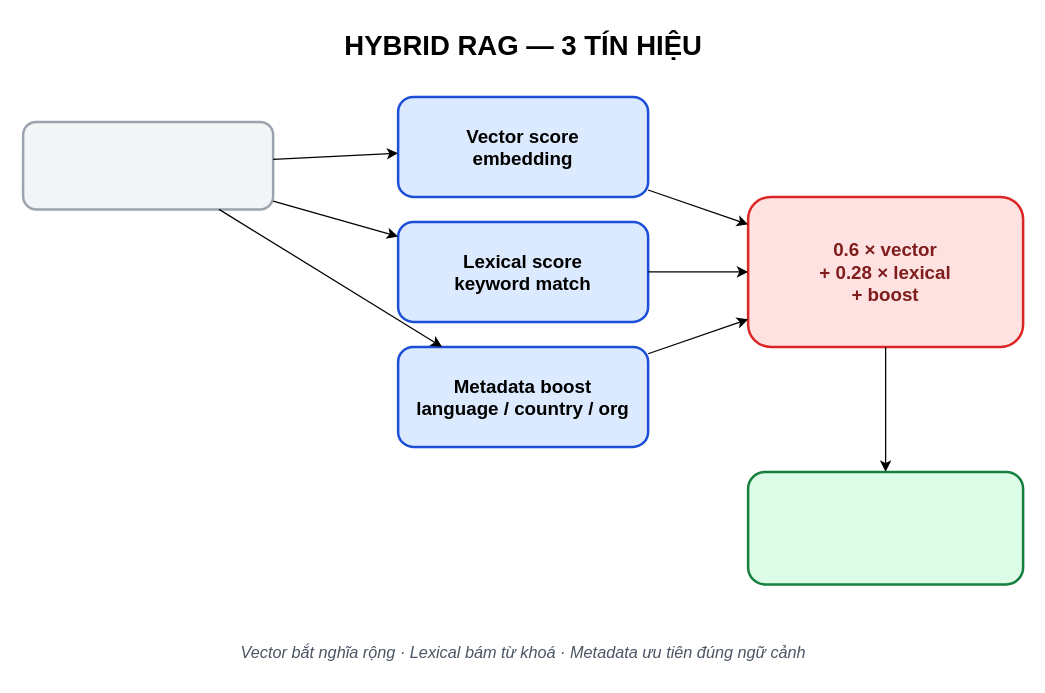
The diagram is 1045 pixels wide and 693 high, and some of its shapes have lost their labels. The shapes that lost their labels are listed below. From the top down, each one's box as (x1, y1, x2, y2) in pixels, then its label:
(21, 120, 274, 210): Query từ request
(746, 470, 1024, 585): Top-k chunks → inject vào prompt
